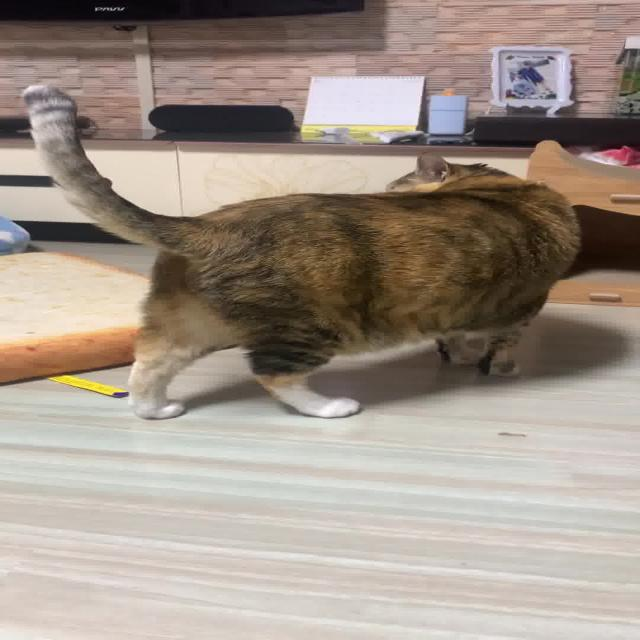cat: (17, 80, 584, 425)
